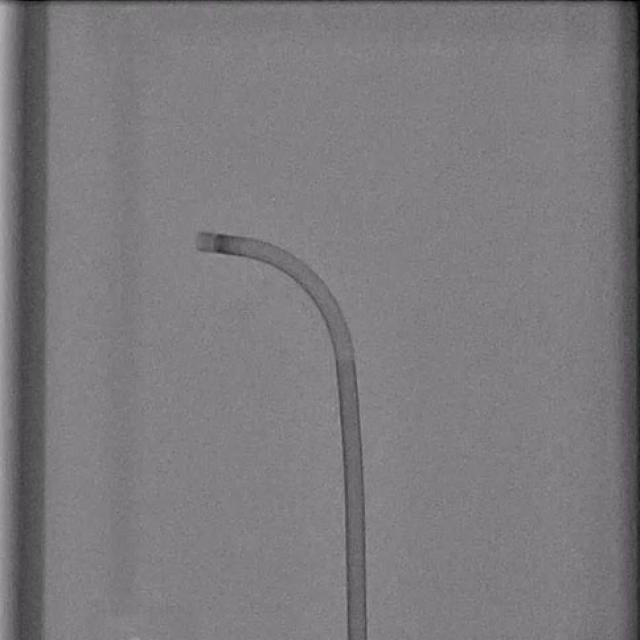bend: (334, 347, 355, 361)
entry: (347, 634, 366, 640)
marker: (212, 234, 230, 254)
tip: (197, 232, 204, 250)
